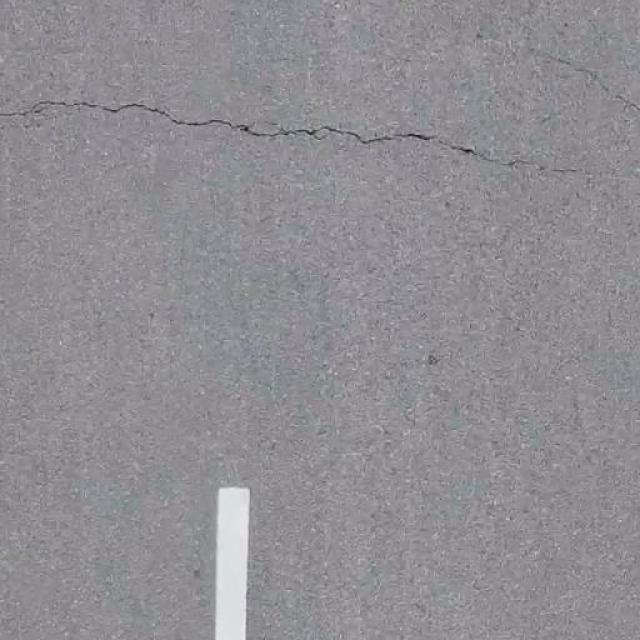Crack: (22, 85, 550, 181)
